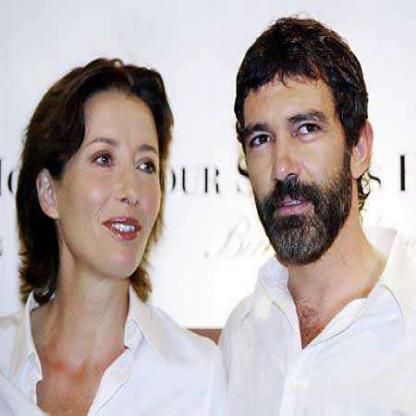face: (231, 27, 354, 259), (56, 66, 169, 285)
